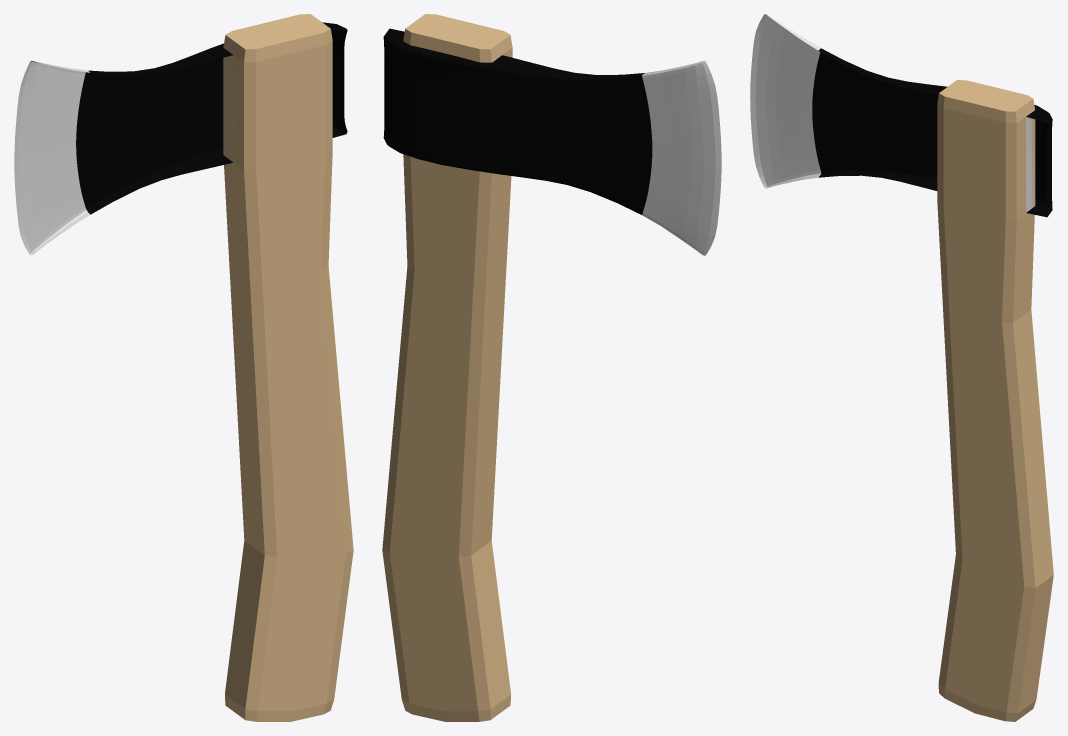
File: axe_pickup.glb
3 renders of one model, left to right at view 1: azimuth 30°, elevation 25°; view 2: azimuth 150°, elevation 25°; view 3: azimuth 330°, elevation 25°, orthographic. The views are drawn at different scales.
Parts seen in each view (by area): view 1: handle, iron; view 2: handle, iron; view 3: handle, iron.
Boxes of the visible parts, <box> form: handle: <box>223,14,353,721</box>; iron: <box>14,22,347,255</box>; handle: <box>382,14,512,721</box>; iron: <box>383,28,721,255</box>; handle: <box>937,80,1053,721</box>; iron: <box>750,14,1052,217</box>.
Size of the model in its own units: 0.5626 by 1.15 by 0.0921.
